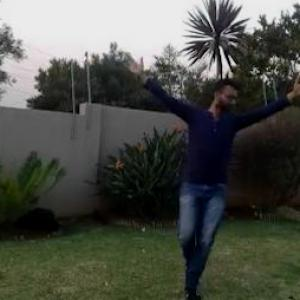takeoff: (72, 32, 299, 299)
